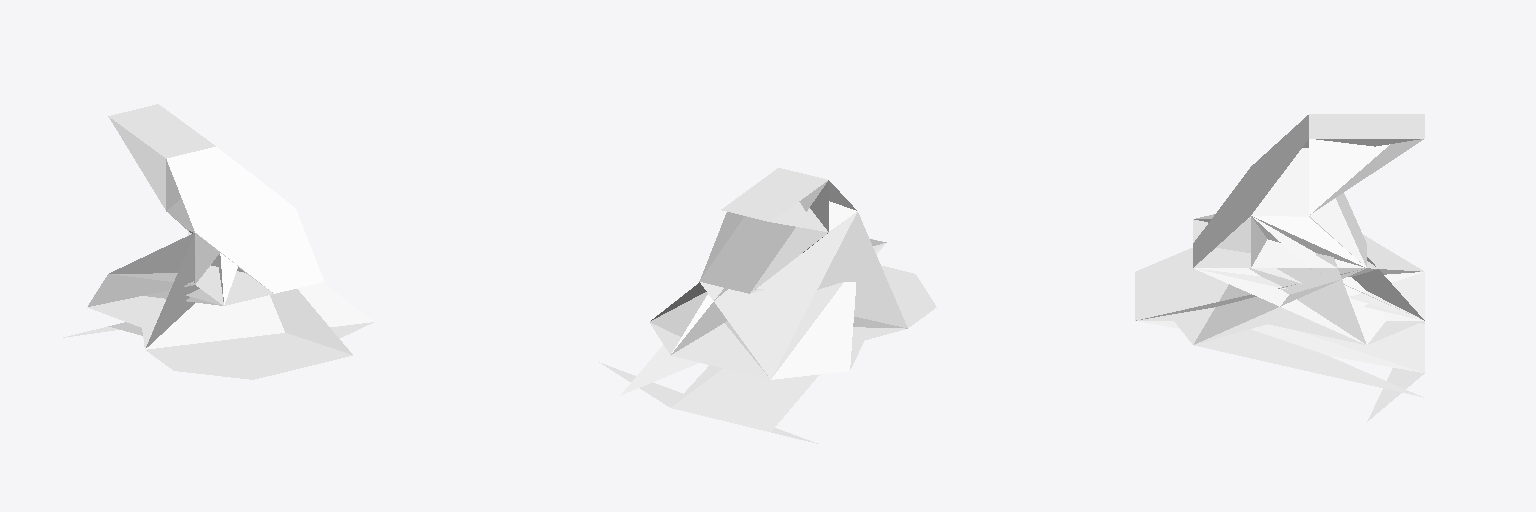
File: BowGoblin_Idle0.obj
3 views of the same model, side by side, from view 1: azimuth 30°, elevation 25°; view 2: azimuth 150°, elevation 25°; view 3: azimuth 270°, elevation 25° (orthographic).
Size of the model in its own units: 5 by 4 by 5.